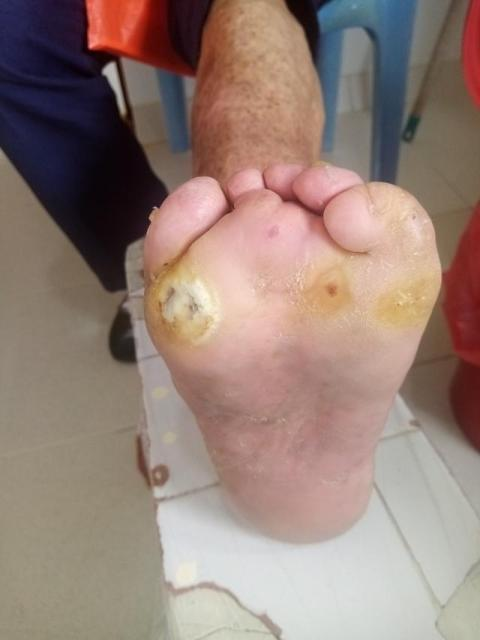wound: (159, 285, 199, 325), (397, 296, 425, 314), (325, 281, 339, 298), (269, 226, 279, 240)
